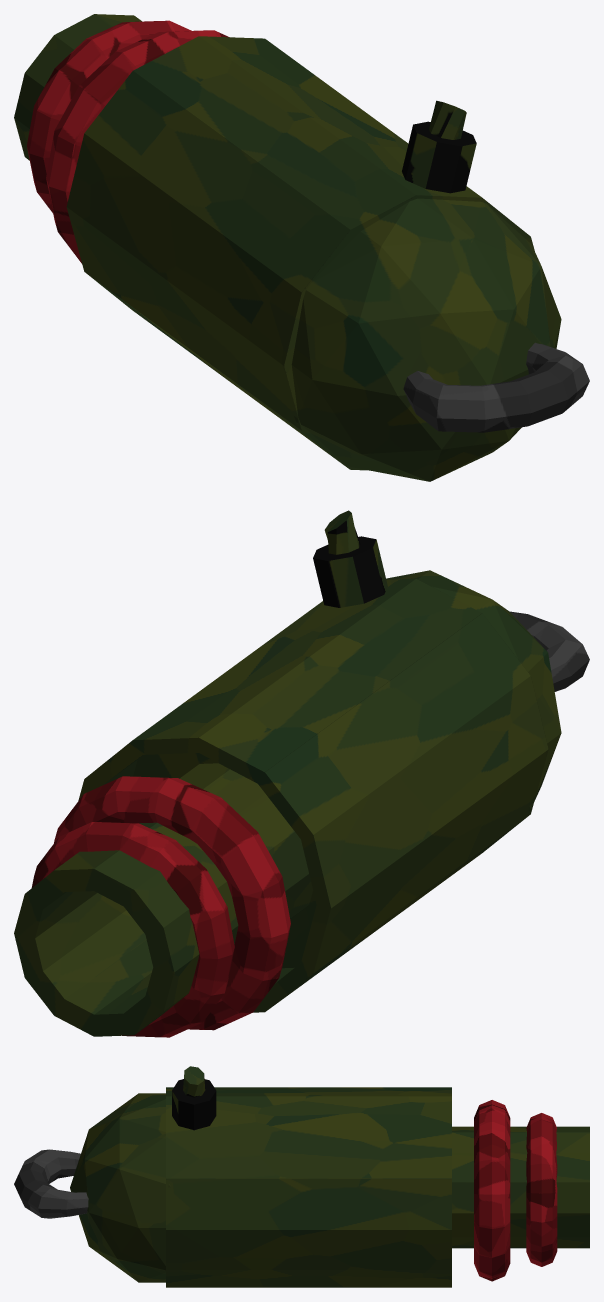
Rendered from Bomb_moving.glb.
The picture shows the model from 3 angles, top to bottom: view 1: azimuth 30°, elevation 25°; view 2: azimuth 150°, elevation 25°; view 3: azimuth 270°, elevation 25°; orthographic projection. The views are drawn at different scales.
Parts seen in each view (by area): view 1: Torus.002; view 2: Torus.002; view 3: Torus.002.
Boxes of the visible parts, x1=… form: Torus.002: x1=14, y1=14, x2=589, y2=481; Torus.002: x1=14, y1=510, x2=589, y2=1037; Torus.002: x1=14, y1=1066, x2=589, y2=1287.
Size of the model in its own units: 1.9 by 2.36 by 5.43.
Materials: 4 (4 with a texture image).
